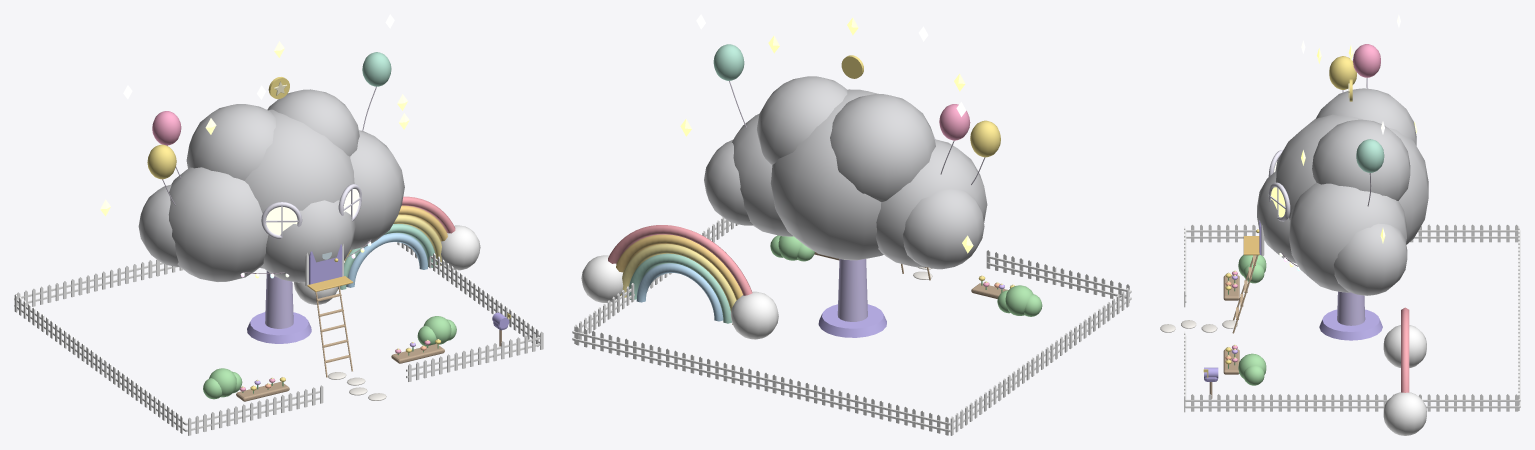
File: building_sky_L10.glb
3 views of the same model, side by side, from view 1: azimuth 30°, elevation 25°; view 2: azimuth 150°, elevation 25°; view 3: azimuth 270°, elevation 25° (orthographic). The views are drawn at different scales.
Parts seen in each view (by area): view 1: Body, sky_L10; view 2: Body, sky_L10; view 3: Body, sky_L10.
Boxes of the visible parts, x1,y1,x2,y2 form: Body: (123, 14, 480, 377); sky_L10: (14, 41, 543, 435); Body: (581, 14, 1000, 339); sky_L10: (572, 17, 1131, 435); Body: (1232, 14, 1428, 435); sky_L10: (1160, 45, 1520, 412).
Bounding box in the file's own units: 28.7 × 20.19 × 22.64.
